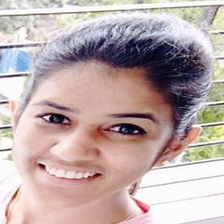no_mask: (14, 65, 161, 200)
